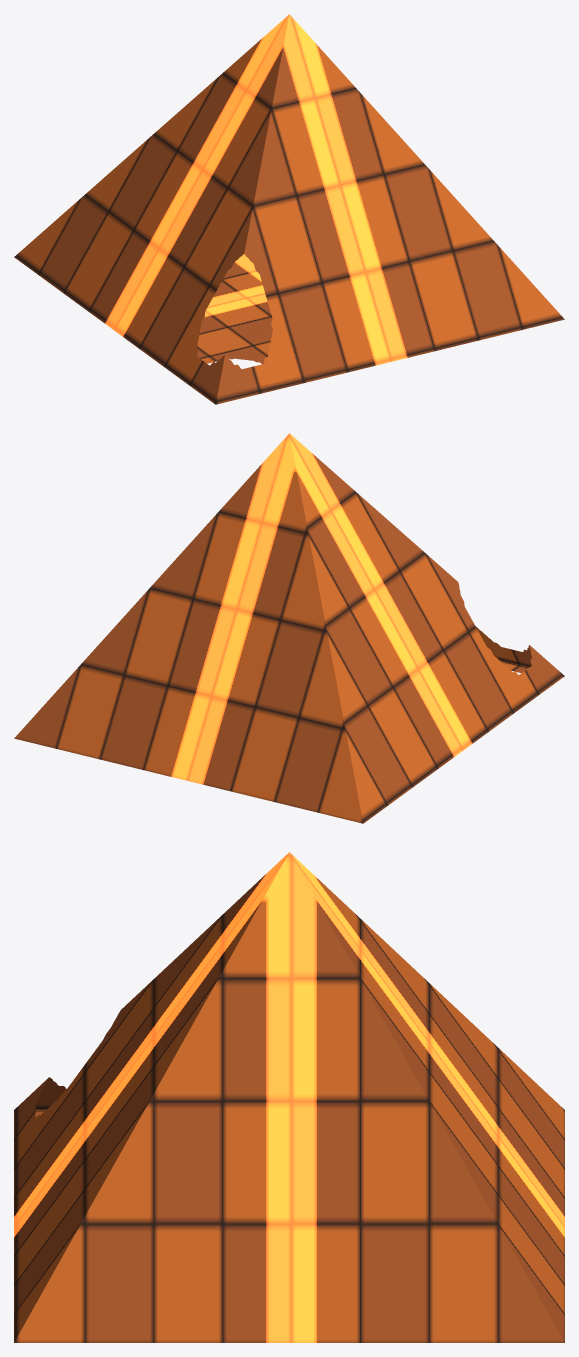
The model's file is pbr_panel.fbx.
The picture shows the model from 3 angles, top to bottom: view 1: azimuth 30°, elevation 25°; view 2: azimuth 150°, elevation 25°; view 3: azimuth 270°, elevation 25°; orthographic projection. The views are drawn at different scales.
Parts seen in each view (by area): view 1: Pyramid; view 2: Pyramid; view 3: Pyramid.
Part boxes in pixels (<box>): Pyramid: <box>14,14,564,404</box>; Pyramid: <box>14,433,564,823</box>; Pyramid: <box>14,852,564,1342</box>.
Size of the model in its own units: 4 by 3 by 4.
1 material, 1 textured.
